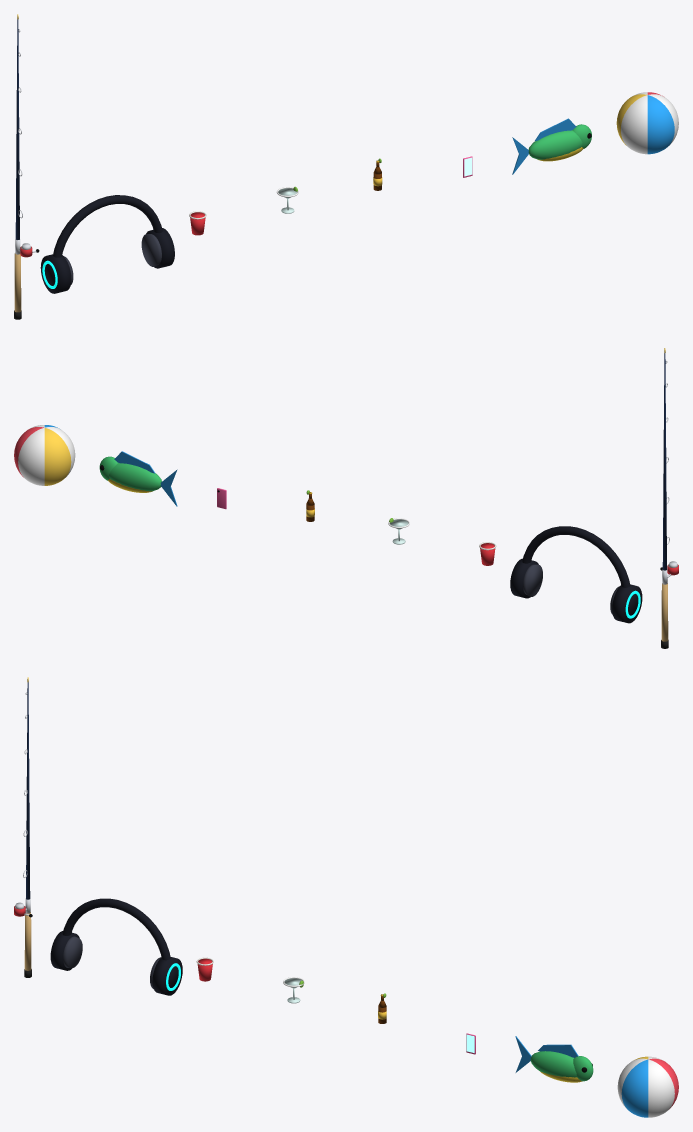
The model's file is movie_props.glb.
3 views of the same model, one above another, from view 1: azimuth 30°, elevation 25°; view 2: azimuth 150°, elevation 25°; view 3: azimuth 330°, elevation 25° (orthographic).
Parts seen in each view (by area): view 1: headphones, beach_ball, fish, rod; view 2: headphones, beach_ball, fish, rod; view 3: headphones, beach_ball, fish, rod.
Part boxes in pixels (<box>): headphones: <box>40,195,174,293</box>; beach_ball: <box>616,92,678,154</box>; fish: <box>512,118,591,174</box>; rod: <box>14,14,39,319</box>; headphones: <box>510,526,642,623</box>; beach_ball: <box>14,425,75,485</box>; fish: <box>99,451,177,506</box>; rod: <box>660,348,678,648</box>; headphones: <box>50,898,182,995</box>; beach_ball: <box>617,1056,678,1117</box>; fish: <box>515,1036,593,1082</box>; rod: <box>14,677,32,977</box>.
Bounding box in the file's own units: 5.88 × 2.58 × 0.48.
